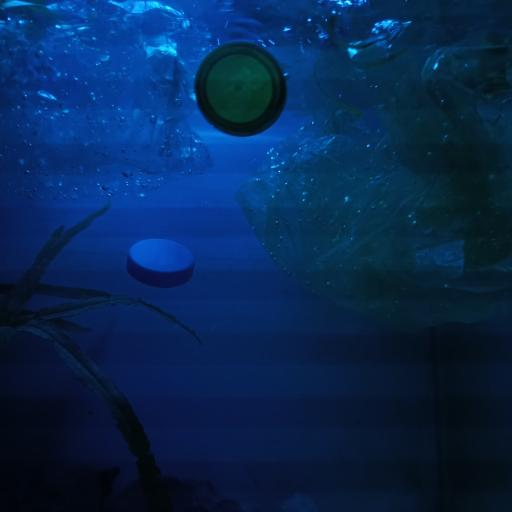bottle_cap: (194, 42, 286, 136), (126, 238, 196, 287)
plastic_bag: (238, 0, 512, 335), (1, 0, 214, 202)
